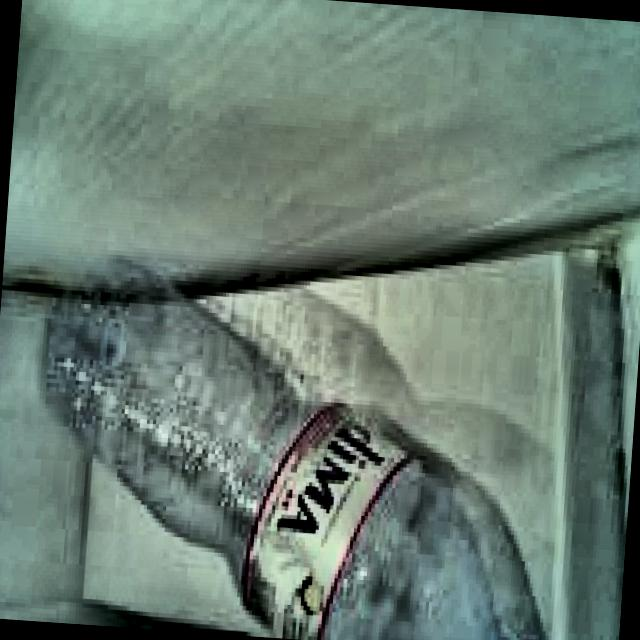plastic bottle: (32, 258, 541, 640)
